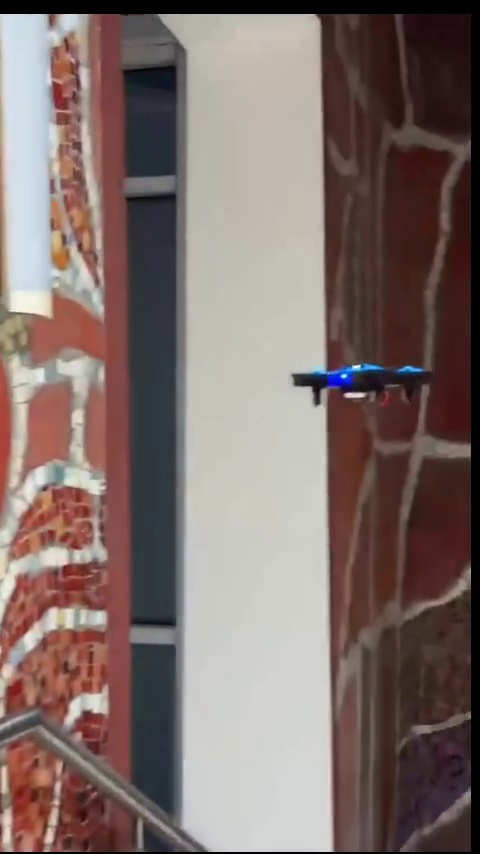drone: (289, 363, 433, 408)
